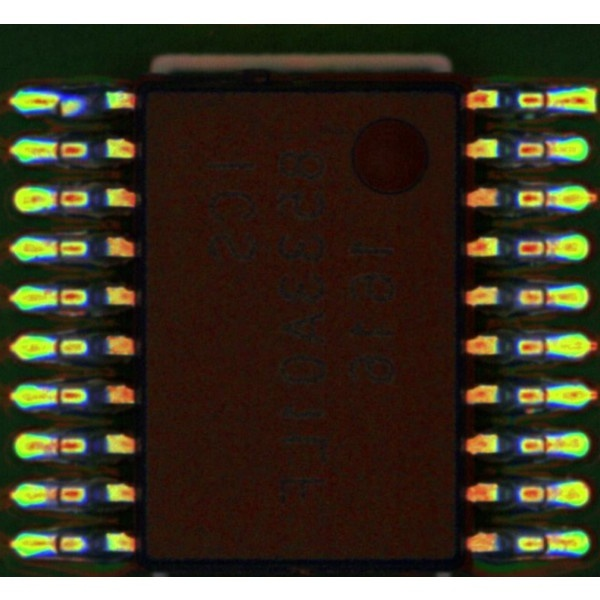Bad_podu: (38, 440, 72, 454), (39, 538, 70, 551), (43, 488, 71, 501), (530, 536, 563, 547), (534, 438, 557, 452), (534, 241, 554, 257), (534, 289, 555, 304), (534, 193, 557, 206), (536, 143, 557, 157), (536, 488, 556, 502)
